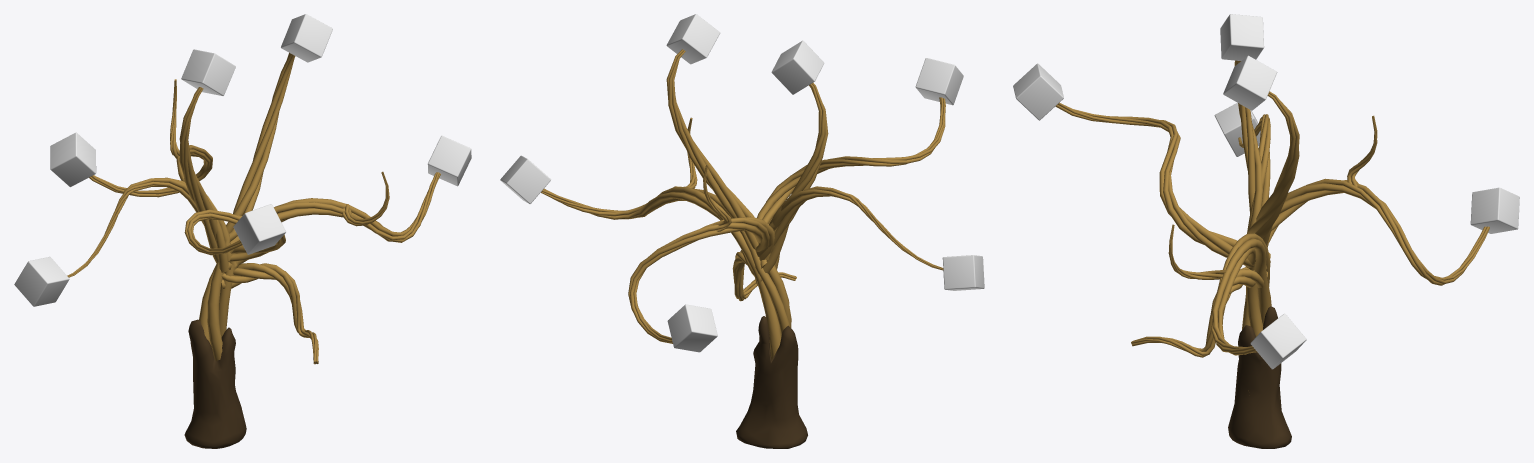
Rendered from slodkie drzewko002.fbx.
3 renders of one model, left to right at view 1: azimuth 30°, elevation 25°; view 2: azimuth 150°, elevation 25°; view 3: azimuth 270°, elevation 25°, orthographic. The views are drawn at different scales.
Parts seen in each view (by area): view 1: Cylinder.003; view 2: Cylinder.003; view 3: Cylinder.003.
Part boxes in pixels (left/top/right/bottom): Cylinder.003: left=14, top=14, right=471, bottom=448; Cylinder.003: left=500, top=14, right=984, bottom=448; Cylinder.003: left=1013, top=14, right=1519, bottom=448.
Bounding box in the file's own units: 890 × 735 × 797.
